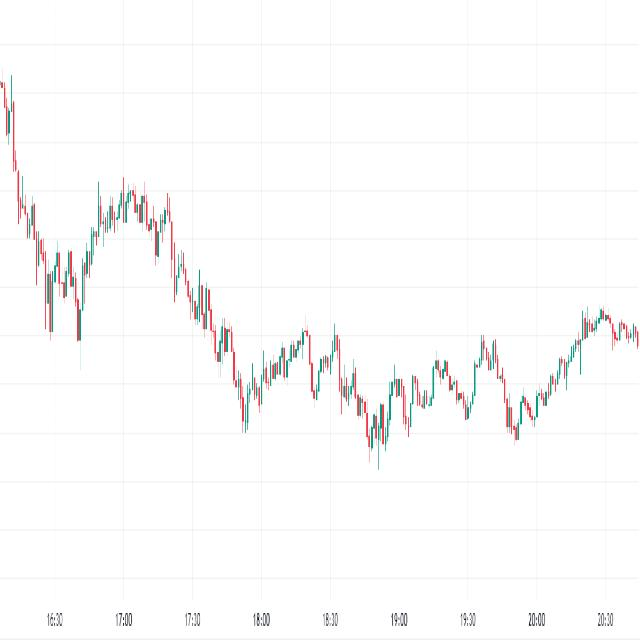Channel-down: (113, 142, 256, 418)
Channel-up: (499, 286, 616, 485), (235, 300, 315, 444)
